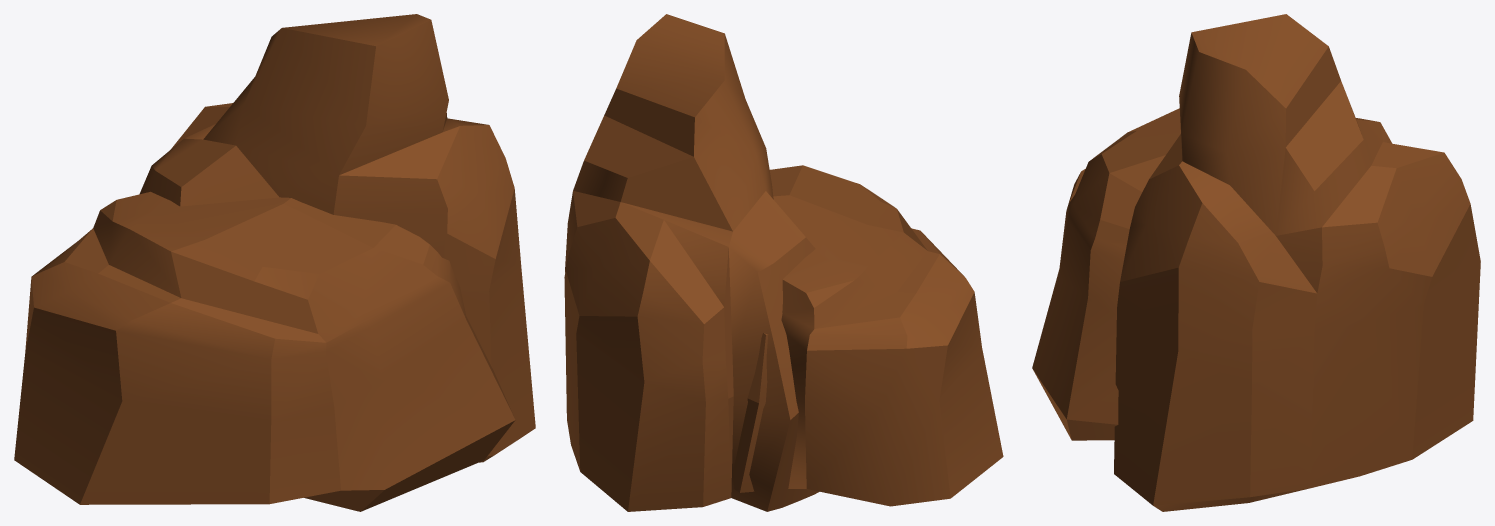
Rendered from rock2_lev2.glb.
3 renders of one model, left to right at view 1: azimuth 30°, elevation 25°; view 2: azimuth 150°, elevation 25°; view 3: azimuth 270°, elevation 25°, orthographic. The views are drawn at different scales.
Visible parts, largest first — view 1: Rock_Large_2.001; view 2: Rock_Large_2.001; view 3: Rock_Large_2.001.
Part boxes in pixels (x1,y1,x2,y2): Rock_Large_2.001: (14, 14, 535, 511); Rock_Large_2.001: (564, 14, 1003, 511); Rock_Large_2.001: (1032, 14, 1480, 511).
Size of the model in its own units: 30.71 by 28.27 by 26.78.
Materials: 1 (1 with a texture image).
